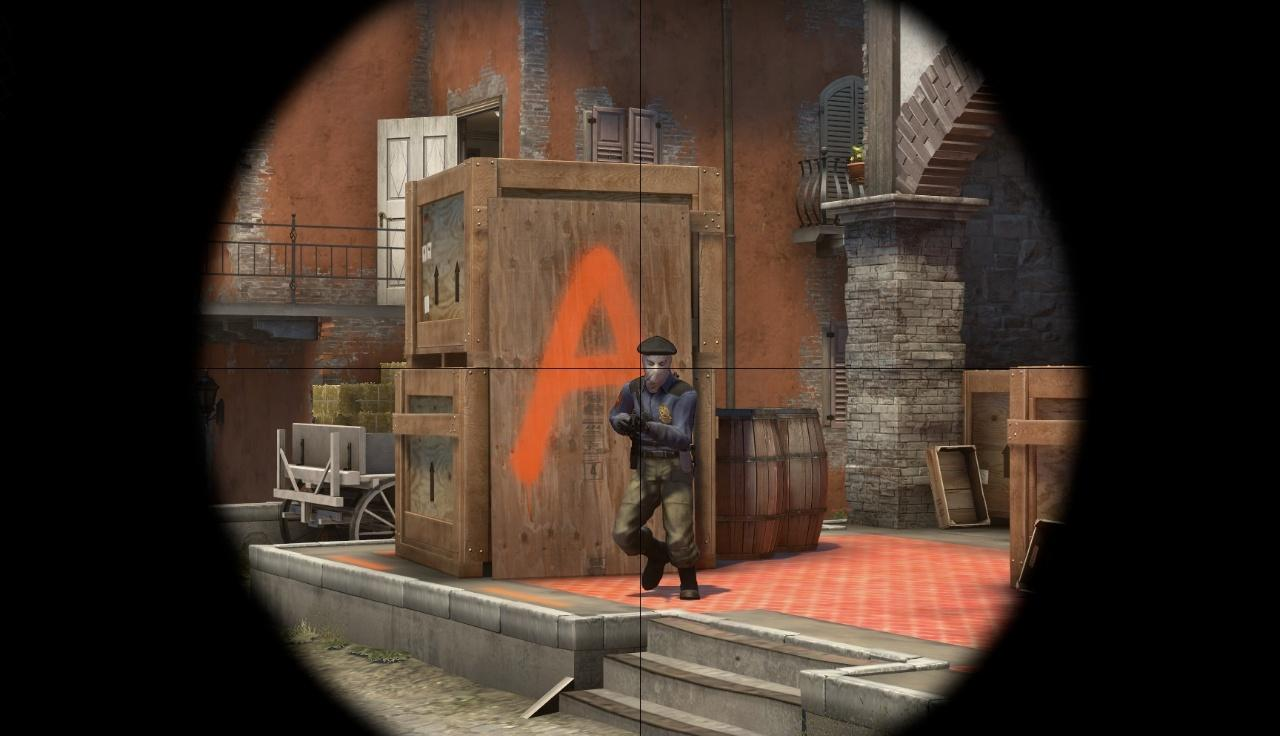tt: (621, 339, 700, 598)
tthead: (641, 338, 673, 386)
